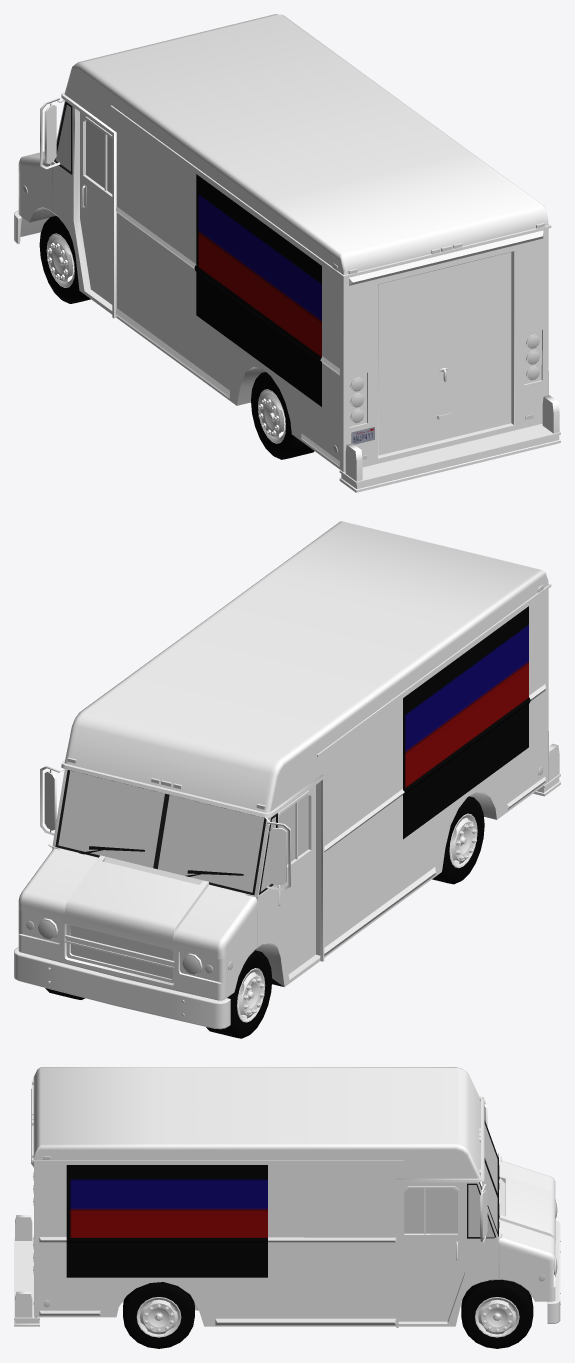
The model's file is MCLA_VA_RSTR_SHIPPINGB_07.glb.
The picture shows the model from 3 angles, top to bottom: view 1: azimuth 30°, elevation 25°; view 2: azimuth 150°, elevation 25°; view 3: azimuth 270°, elevation 25°; orthographic projection. The views are drawn at different scales.
Visible parts, largest first — view 1: va_rstr_shippingb_07/resources/vehicle/va_rstr_shippingb_07/ (×5); view 2: va_rstr_shippingb_07/resources/vehicle/va_rstr_shippingb_07/ (×6); view 3: va_rstr_shippingb_07/resources/vehicle/va_rstr_shippingb_07/ (×5).
Part boxes in pixels (x1=…): va_rstr_shippingb_07/resources/vehicle/va_rstr_shippingb_07/ (×5): x1=14, y1=14, x2=560, y2=492; va_rstr_shippingb_07/resources/vehicle/va_rstr_shippingb_07/ (×6): x1=14, y1=521, x2=560, y2=1038; va_rstr_shippingb_07/resources/vehicle/va_rstr_shippingb_07/ (×5): x1=14, y1=1067, x2=560, y2=1348.
Size of the model in its own units: 2.98 by 2.95 by 7.07.
Materials: 12 (7 with a texture image).
